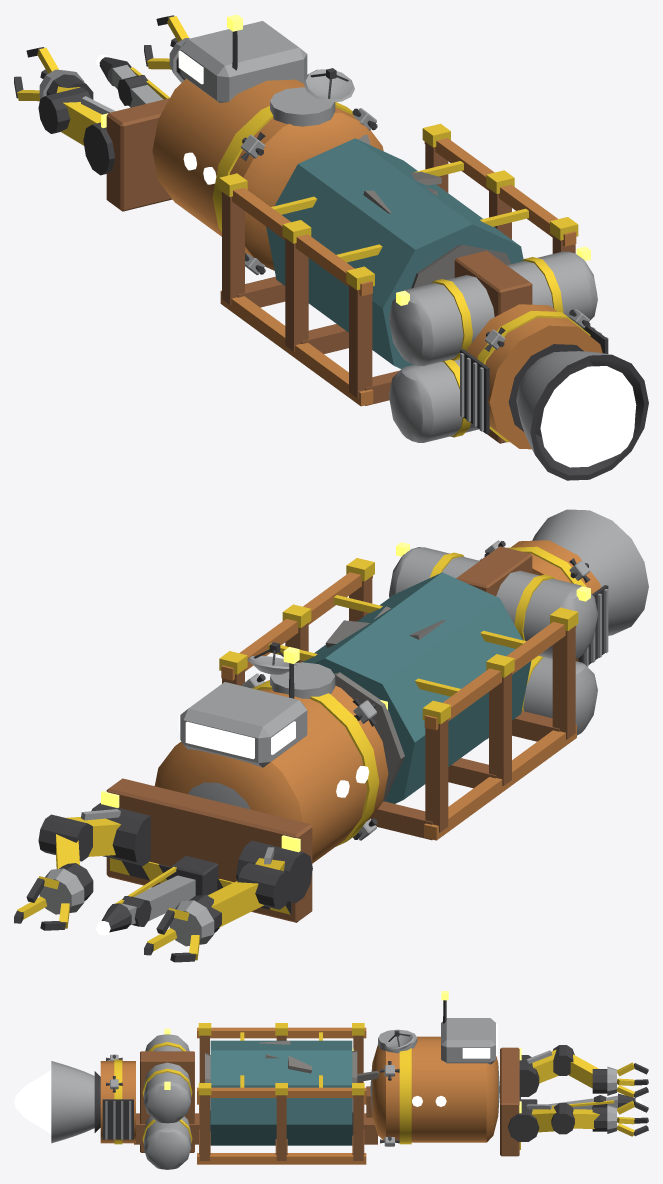
Rendered from salvager.glb.
3 views of the same model, one above another, from view 1: azimuth 30°, elevation 25°; view 2: azimuth 150°, elevation 25°; view 3: azimuth 270°, elevation 25° (orthographic). The views are drawn at different scales.
Visible parts, largest first — view 1: salvager_hull, salvager_rig, salvager_scrap, engine_glow; view 2: salvager_rig, salvager_hull, salvager_scrap; view 3: salvager_hull, salvager_rig, salvager_scrap, engine_glow.
Part boxes in pixels (box(x1,y1,x2,y2)): salvager_hull: box(152, 14, 648, 480); salvager_rig: box(14, 15, 578, 406); salvager_scrap: box(266, 135, 528, 368); engine_glow: box(540, 366, 636, 467); salvager_rig: box(14, 558, 578, 962); salvager_hull: box(154, 509, 648, 863); salvager_scrap: box(268, 572, 531, 803); salvager_hull: box(51, 991, 499, 1169); salvager_rig: box(197, 1023, 648, 1164); salvager_scrap: box(205, 1032, 378, 1145); engine_glow: box(14, 1070, 51, 1133).
Bounding box in the file's own units: 4.15 × 4.14 × 16.13.
